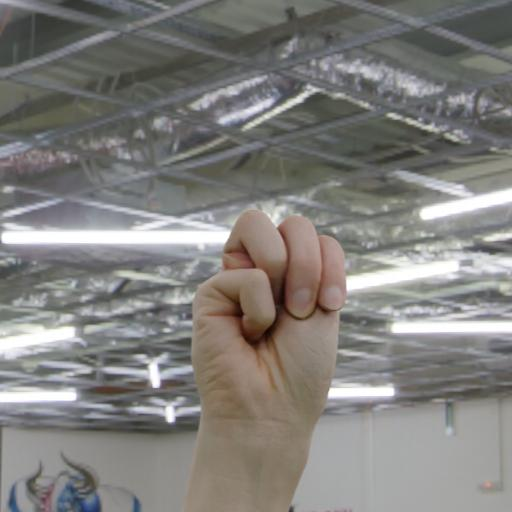M: (169, 192, 382, 454)
